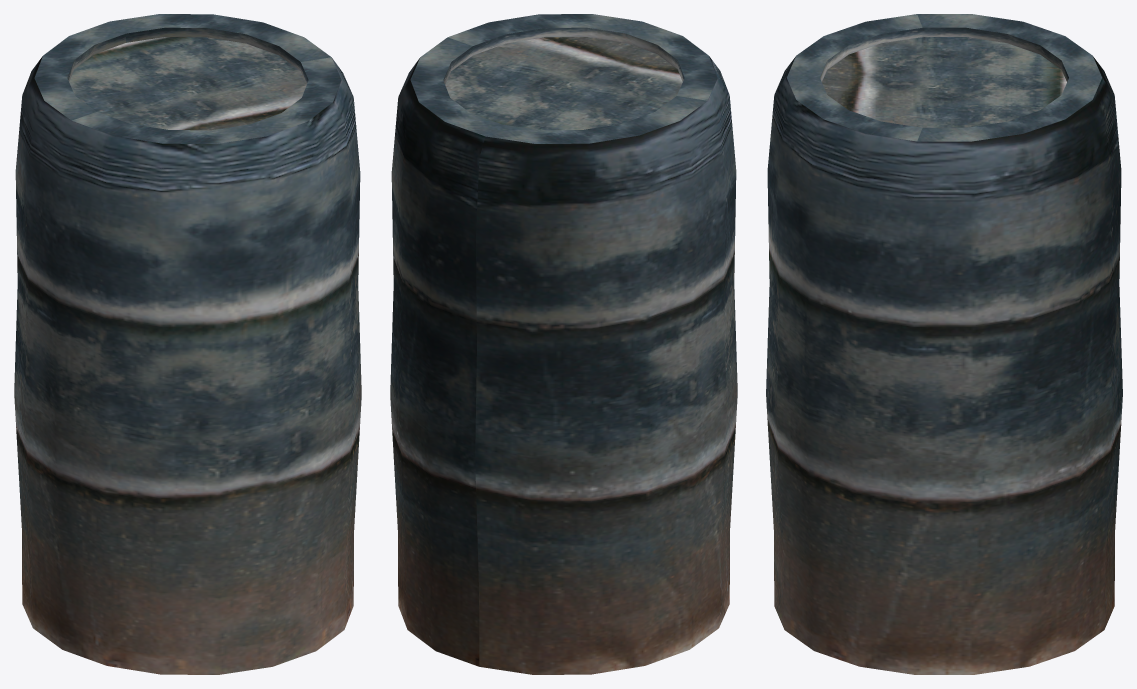
Rendered from barrellB.obj.
3 renders of one model, left to right at view 1: azimuth 30°, elevation 25°; view 2: azimuth 150°, elevation 25°; view 3: azimuth 270°, elevation 25°, orthographic.
Parts seen in each view (by area): view 1: barrelB; view 2: barrelB; view 3: barrelB.
Boxes of the visible parts, x1,y1,x2,y2 form: barrelB: (14,14,361,674); barrelB: (390,14,737,674); barrelB: (766,14,1122,674).
Bounding box in the file's own units: 20.64 × 35.23 × 21.57.
1 material, 1 textured.
